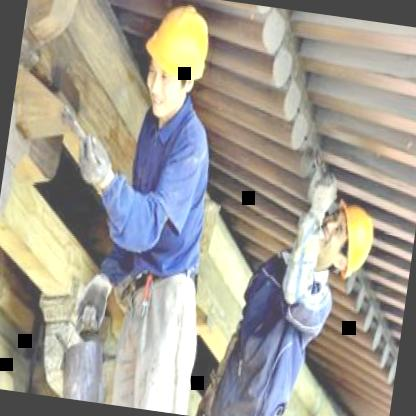helmet: (133, 0, 220, 129), (312, 189, 380, 283)
